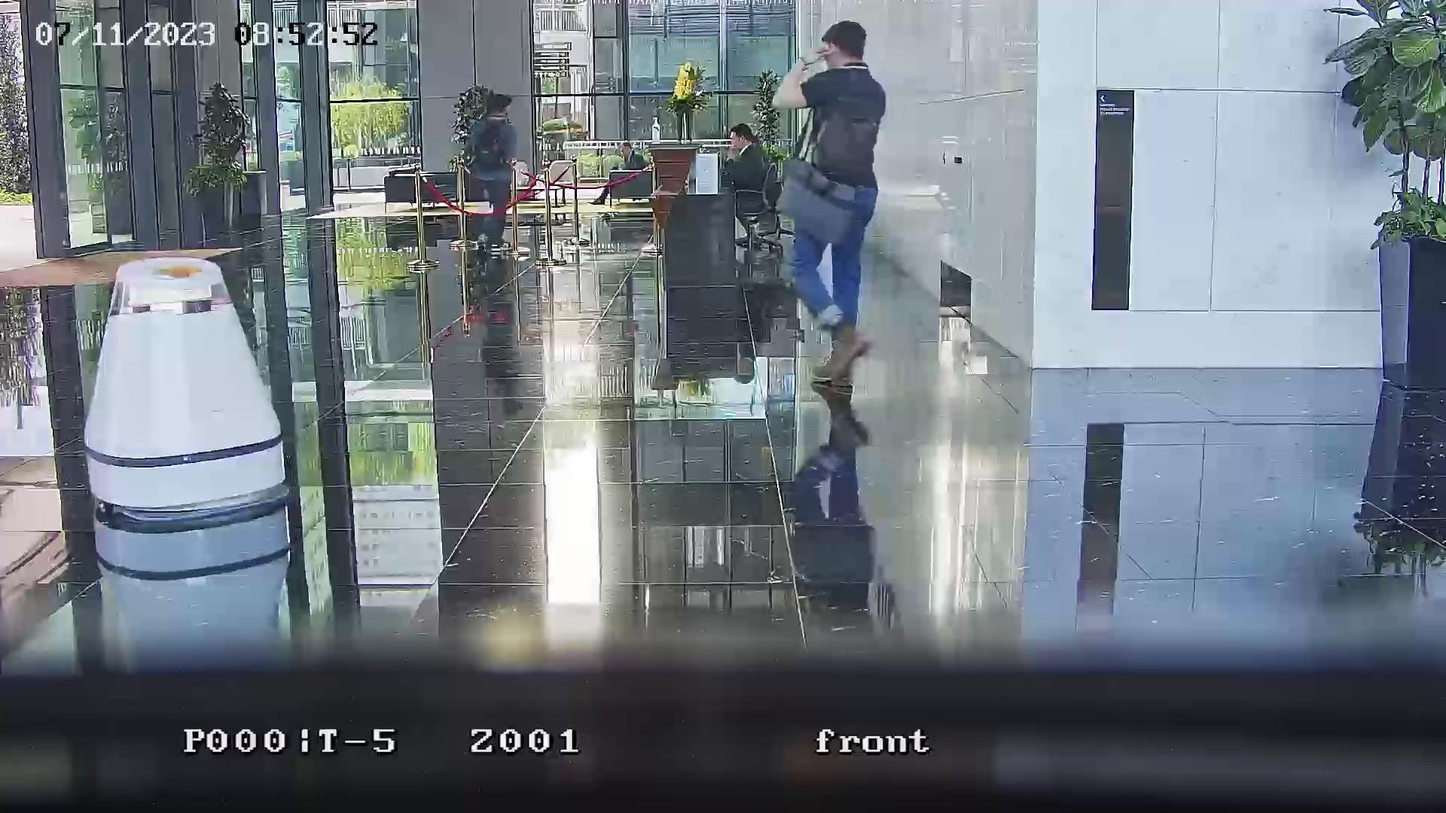person: (773, 20, 886, 334), (464, 97, 520, 252), (720, 123, 770, 222), (593, 140, 653, 207)
